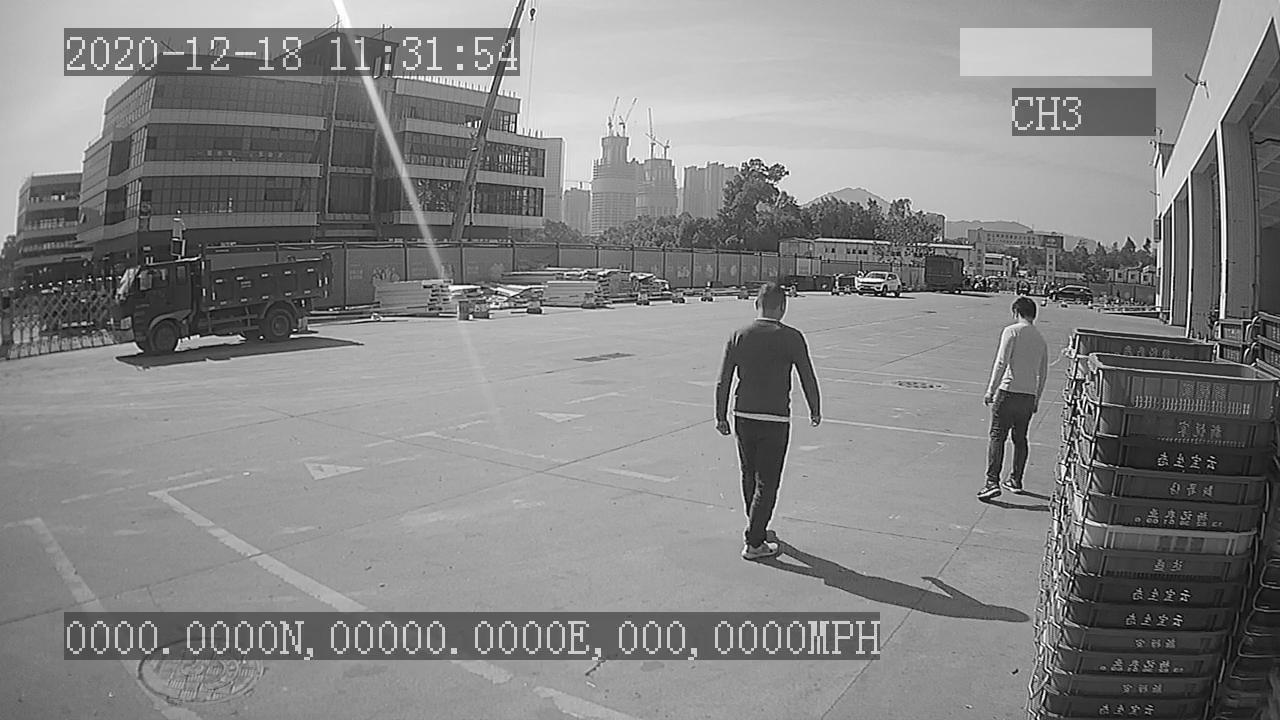person: (714, 279, 824, 562), (974, 294, 1052, 502)
